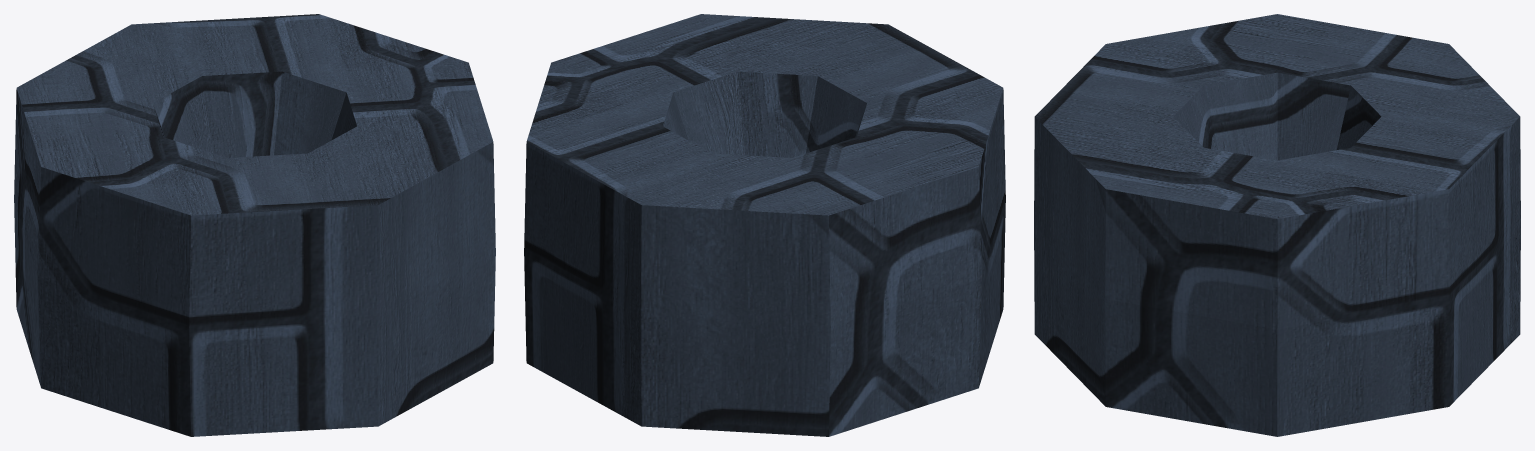
Rendered from hogtagon.fbx.
3 renders of one model, left to right at view 1: azimuth 30°, elevation 25°; view 2: azimuth 150°, elevation 25°; view 3: azimuth 270°, elevation 25°, orthographic.
Visible parts, largest first — view 1: Torus.001; view 2: Torus.001; view 3: Torus.001.
Boxes of the visible parts, x1,y1,x2,y2 form: Torus.001: (14, 14, 495, 436); Torus.001: (524, 14, 1005, 436); Torus.001: (1034, 14, 1520, 436).
Size of the model in its own units: 114 by 55.43 by 112.
